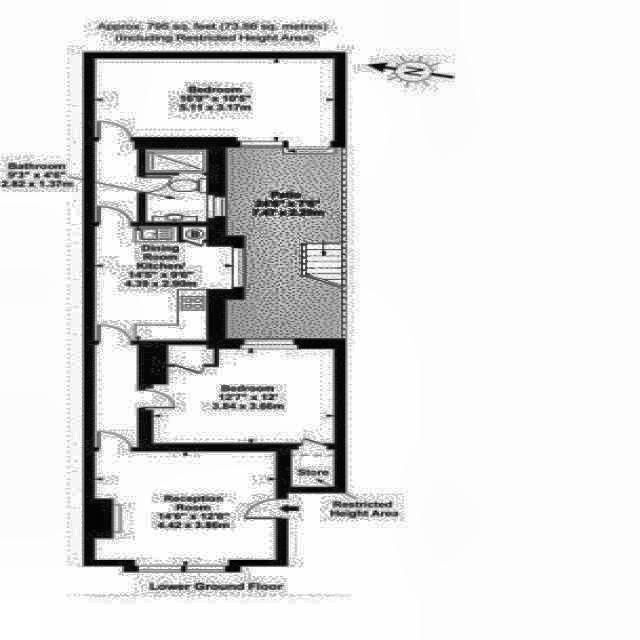room: (95, 58, 335, 146), (95, 450, 276, 560), (153, 345, 335, 446), (95, 226, 232, 341), (95, 345, 139, 447), (146, 150, 207, 222), (95, 142, 137, 222), (292, 449, 335, 486), (182, 227, 208, 240)
